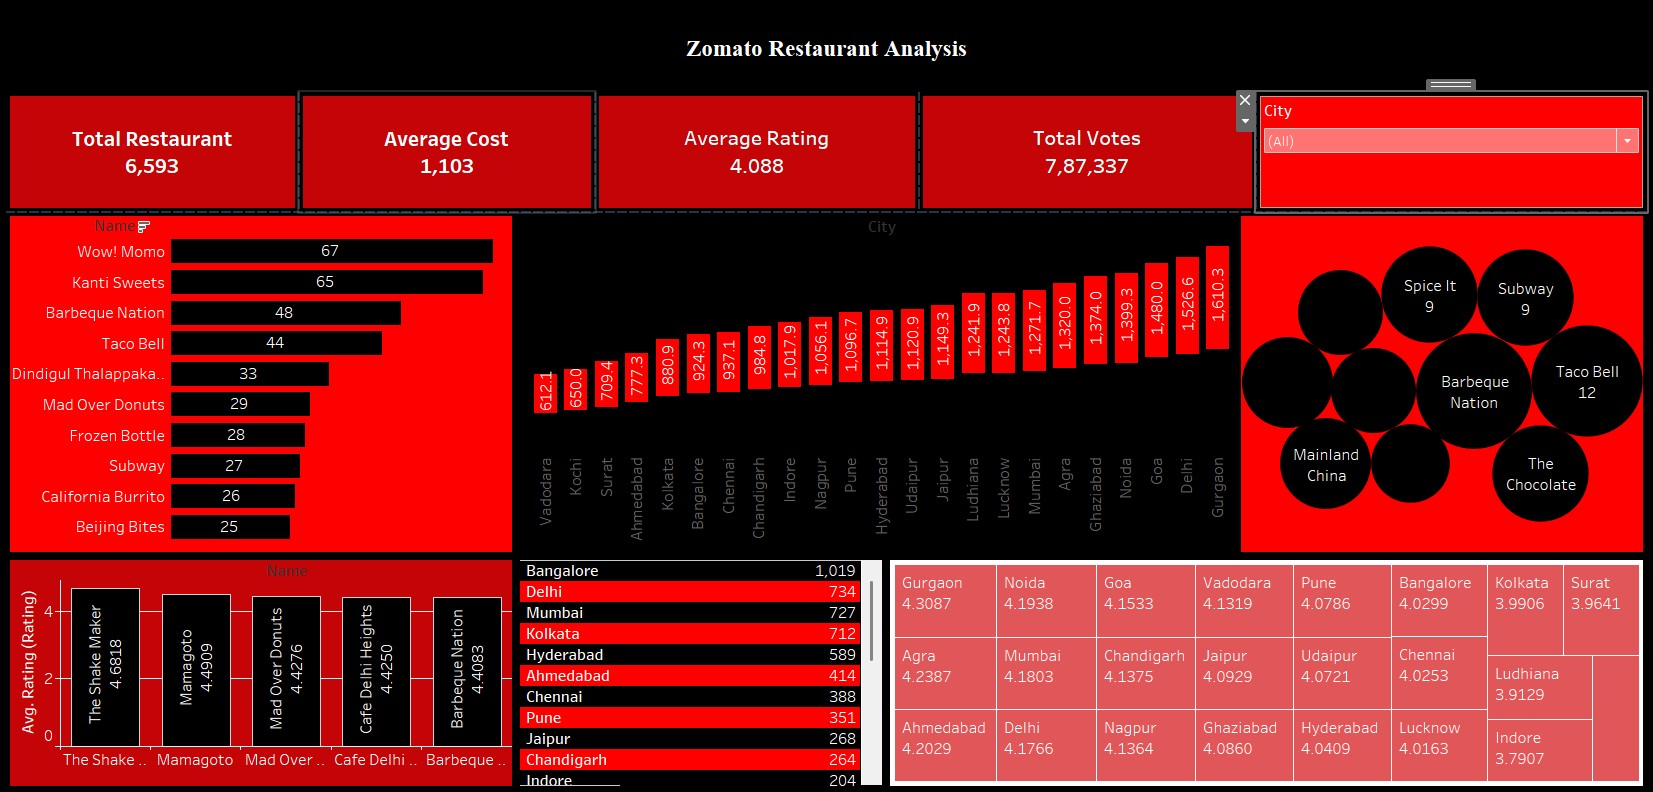

The page's visual inventory and layout, read from the dashboard file:
{"tool":"tableau","page":{"name":"Dashboard 1","canvas":[1000,1000],"units":"permille","ordinal":0},"visuals":[{"type":"text","box":[4.8,10,990.3,108.6]},{"type":"worksheet","title":"Total Restaurant","mark":"Automatic","box":[4.8,118.6,176.8,149.7]},{"type":"worksheet","title":"Average Cost","mark":"Automatic","box":[181.7,118.6,178.6,149.7]},{"type":"worksheet","title":"Average Rating","mark":"Automatic","box":[360.3,118.6,195.5,149.7]},{"type":"worksheet","title":"Total Votes","mark":"Automatic","box":[555.8,118.6,203.4,149.7]},{"type":"filter","title":"Best 5 Restaurants by avg rating and location having atleast 10 votes","param":"[federated.0yn5t1l100senw11vn7nx1ag1w7u].[none:City:nk]","box":[759.2,118.6,236,149.7]},{"type":"worksheet","title":"Restuarnts with highest numbers","mark":"Bar","rows":["Name"],"cols":["Name"],"box":[4.8,268.3,307.7,429.3]},{"type":"worksheet","title":"Cities and average cost","mark":"GanttBar","rows":["Cost"],"cols":["City"],"box":[312.6,268.3,435,429.3]},{"type":"worksheet","title":"Restuarants with Highest reach","mark":"Circle","box":[747.5,268.3,247.7,429.3]},{"type":"worksheet","title":"Best 5 Restaurants by avg rating and location having atleast 10 votes","mark":"Automatic","rows":["Rating"],"cols":["Name"],"box":[4.8,697.6,307.7,292.4]},{"type":"worksheet","title":"Cities with highest resaturant","mark":"Automatic","rows":["City"],"box":[312.6,697.6,223.4,292.4]},{"type":"worksheet","title":"Cities and their ratings","mark":"Automatic","box":[536,697.6,459.2,292.4]}]}

Visuals, with their boxes on the dashboard's canvas, which has no fixed pixel size, in thousandths of its width and height (x1, y1, x2, y2). These are canvas units, not pixel positions in the 1653x792 screenshot, which may show the page scaled, cropped or inside an application window:
text: bbox(5, 10, 995, 119)
"Total Restaurant" worksheet: bbox(5, 119, 182, 268)
"Average Cost" worksheet: bbox(182, 119, 360, 268)
"Average Rating" worksheet: bbox(360, 119, 556, 268)
"Total Votes" worksheet: bbox(556, 119, 759, 268)
"Best 5 Restaurants by avg rating and location having atleast 10 votes" filter: bbox(759, 119, 995, 268)
"Restuarnts with highest numbers" worksheet (Bar marks): bbox(5, 268, 312, 698)
"Cities and average cost" worksheet (GanttBar marks): bbox(313, 268, 748, 698)
"Restuarants with Highest reach" worksheet (Circle marks): bbox(748, 268, 995, 698)
"Best 5 Restaurants by avg rating and location having atleast 10 votes" worksheet: bbox(5, 698, 312, 990)
"Cities with highest resaturant" worksheet: bbox(313, 698, 536, 990)
"Cities and their ratings" worksheet: bbox(536, 698, 995, 990)
